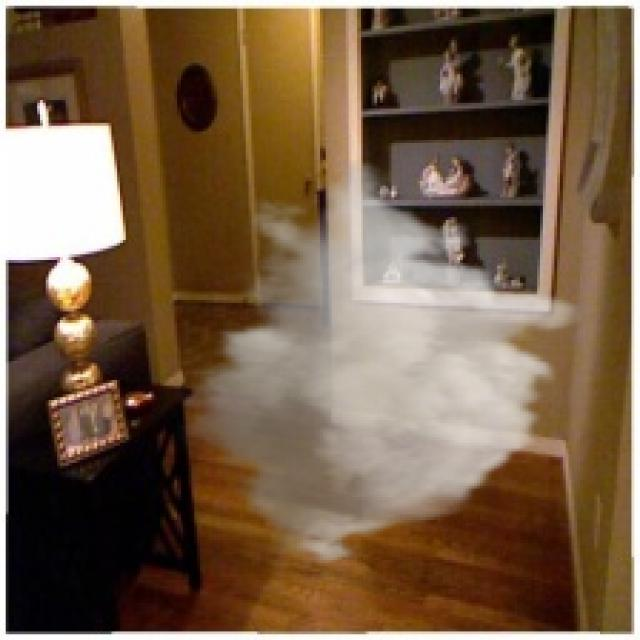smoke: (171, 160, 583, 569)
